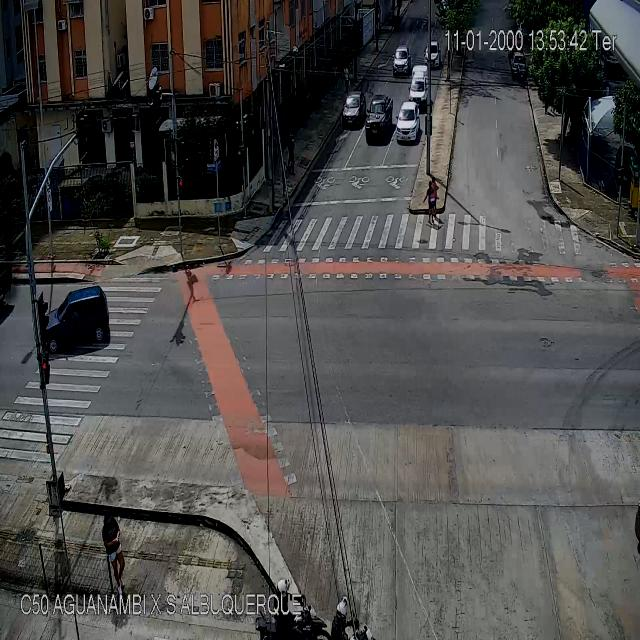Car: (47, 284, 111, 354), (364, 93, 393, 138), (396, 100, 420, 142), (342, 89, 366, 124), (408, 70, 428, 110), (392, 44, 411, 76), (424, 41, 440, 68), (512, 52, 526, 77)
Motorcycle: (257, 579, 319, 639), (331, 595, 371, 639), (517, 63, 522, 81)
